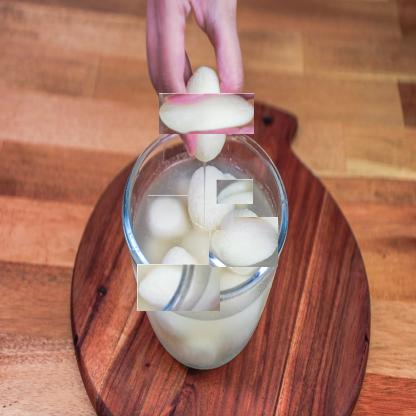rasgulla: (172, 80, 241, 148), (146, 255, 211, 320), (213, 212, 273, 272), (188, 166, 235, 230), (148, 195, 188, 236), (219, 176, 250, 207)
